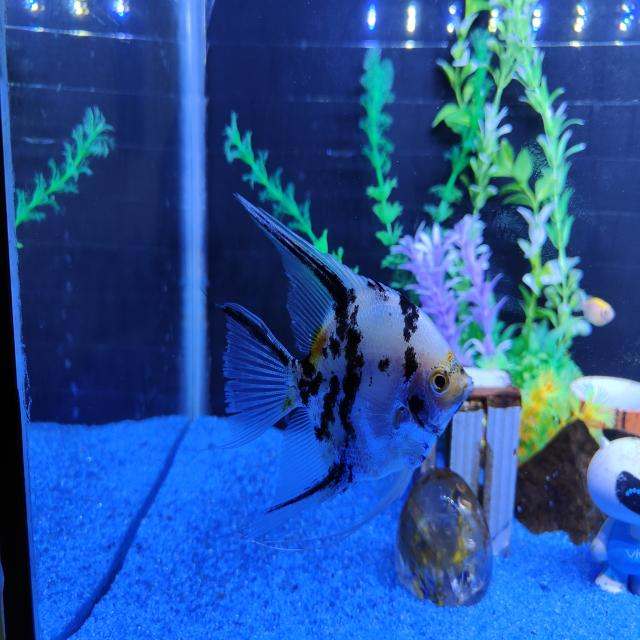Fish: (222, 196, 472, 537), (582, 297, 615, 326)
